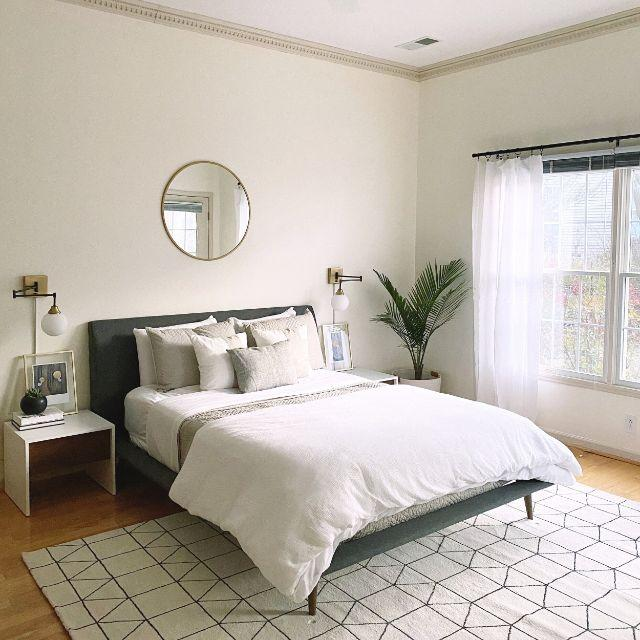bed: (127, 387, 576, 556)
mirror: (157, 157, 264, 264)
pillow: (136, 321, 241, 390), (248, 313, 333, 377), (233, 337, 304, 393)
table: (6, 410, 120, 517)
window: (477, 155, 640, 393)
